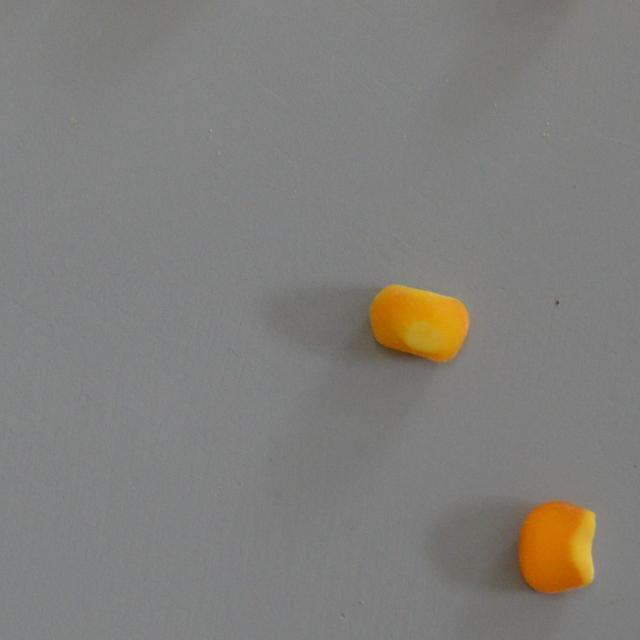no_canjicado: (367, 282, 472, 364), (518, 501, 596, 594)
